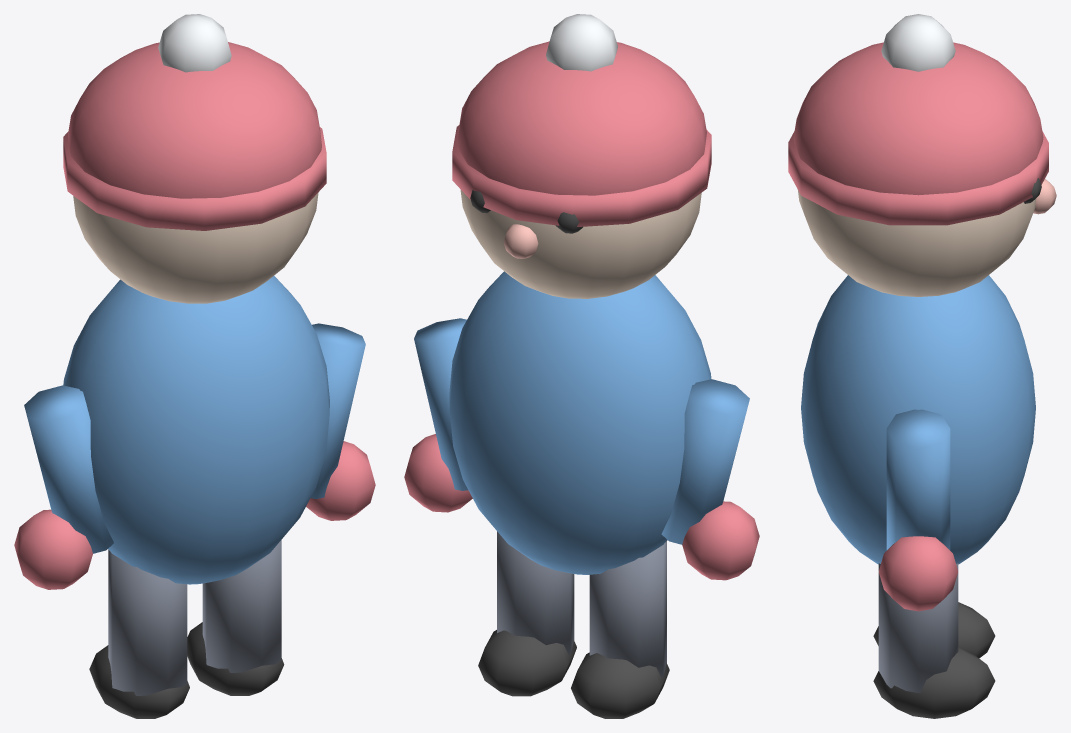
Rendered from kid_a.glb.
3 views of the same model, side by side, from view 1: azimuth 30°, elevation 25°; view 2: azimuth 150°, elevation 25°; view 3: azimuth 270°, elevation 25° (orthographic). The views are drawn at different scales.
Parts seen in each view (by area): view 1: body, hat, headMesh, legRMesh, brim, armRMesh, legLMesh, armRMitt, armLMesh, pompom, armLMitt, legRBoot (+1 smaller); view 2: body, hat, headMesh, brim, legRMesh, armRMesh, legLMesh, legLBoot, legRBoot, armRMitt, armLMesh, pompom (+2 smaller); view 3: body, hat, headMesh, brim, armLMesh, legLMesh, armLMitt, legLBoot, pompom, legRBoot, nose.
Part boxes in pixels (x1,y1,x2,y2): body: (63,276,329,584); hat: (68,42,321,198); headMesh: (73,192,318,303); legRMesh: (108,550,187,695); brim: (63,127,326,230); armRMesh: (24,385,113,553); legLMesh: (202,540,281,672); armRMitt: (14,509,92,589); armLMesh: (310,323,365,498); pompom: (158,14,231,72); armLMitt: (306,441,375,520); legRBoot: (89,645,189,718); body: (449,271,711,574); hat: (457,41,706,195); headMesh: (460,190,701,298); brim: (452,125,711,226); legRMesh: (589,541,666,677); armRMesh: (661,379,749,544); legLMesh: (497,531,574,654); legLBoot: (478,630,576,696); legRBoot: (571,652,669,718); armRMitt: (682,501,759,580); armLMesh: (414,318,467,490); pompom: (546,14,617,71); body: (801,275,1035,564); hat: (793,42,1043,195); headMesh: (798,190,1036,296); brim: (788,131,1048,225); armLMesh: (886,409,950,550); legLMesh: (878,563,958,692); armLMitt: (878,536,958,611); legLBoot: (873,647,995,718); pompom: (881,14,955,71); legRBoot: (873,602,995,658); nose: (1033,179,1056,214).
Bounding box in the file's own units: 0.7125 × 1.33 × 0.4798.
